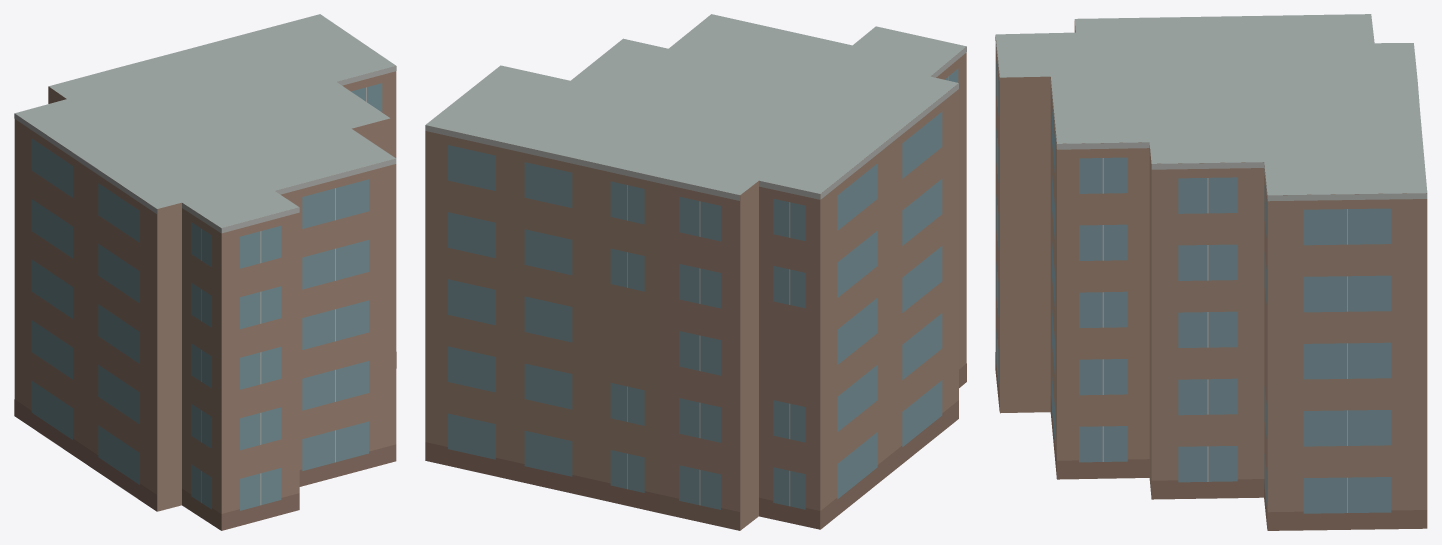
Rendered from survey-upis-32620213.glb.
3 renders of one model, left to right at view 1: azimuth 30°, elevation 25°; view 2: azimuth 150°, elevation 25°; view 3: azimuth 270°, elevation 25°, orthographic. The views are drawn at different scales.
Visible parts, largest first — view 1: survey-upis-32620213.tmp; view 2: survey-upis-32620213.tmp; view 3: survey-upis-32620213.tmp.
Boxes of the visible parts, x1=… form: survey-upis-32620213.tmp: x1=14, y1=14, x2=396, y2=530; survey-upis-32620213.tmp: x1=425, y1=14, x2=966, y2=530; survey-upis-32620213.tmp: x1=995, y1=14, x2=1427, y2=530.
Bounding box in the file's own units: 16.24 × 14 × 16.34.
